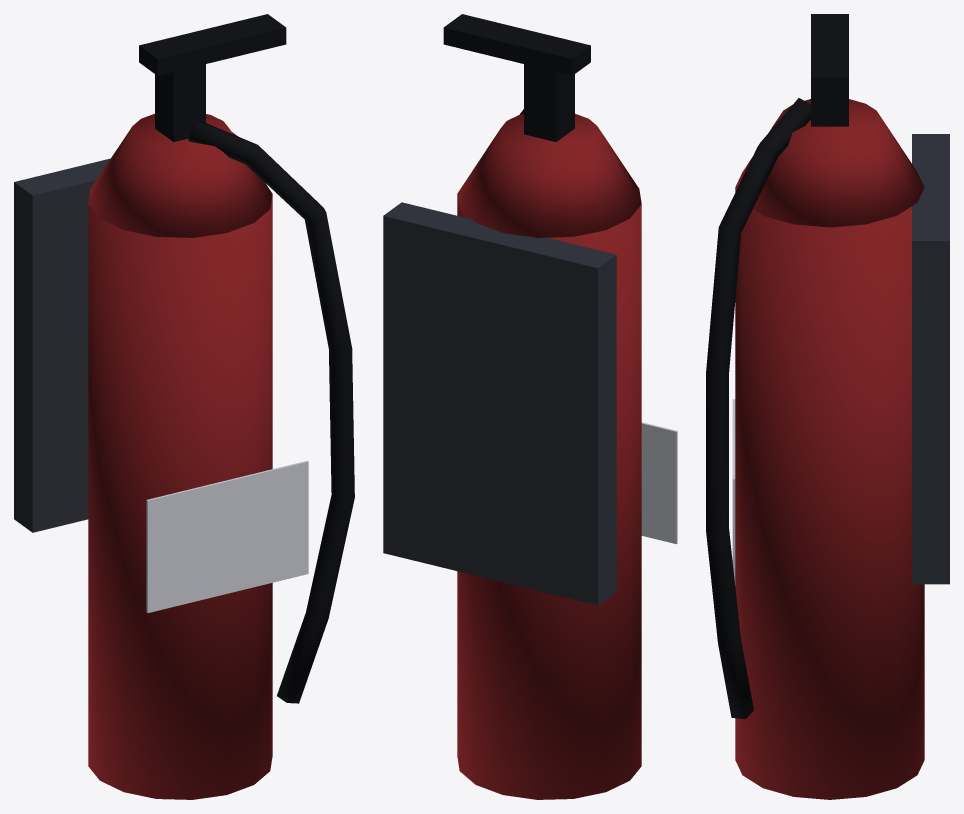
The model's file is Deco_Extinguisher.glb.
3 views of the same model, side by side, from view 1: azimuth 30°, elevation 25°; view 2: azimuth 150°, elevation 25°; view 3: azimuth 270°, elevation 25° (orthographic).
Visible parts, largest first — view 1: Deco_Extinguisher; view 2: Deco_Extinguisher; view 3: Deco_Extinguisher.
Boxes of the visible parts, x1,y1,x2,y2 form: Deco_Extinguisher: (14, 14, 354, 799); Deco_Extinguisher: (383, 14, 677, 799); Deco_Extinguisher: (706, 14, 949, 799).
Size of the model in its own units: 0.2095 by 0.6375 by 0.1931.
